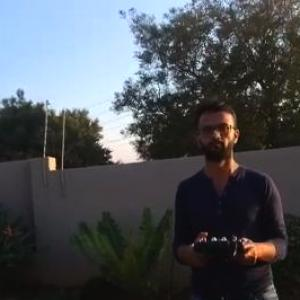follow: (168, 89, 293, 299)
